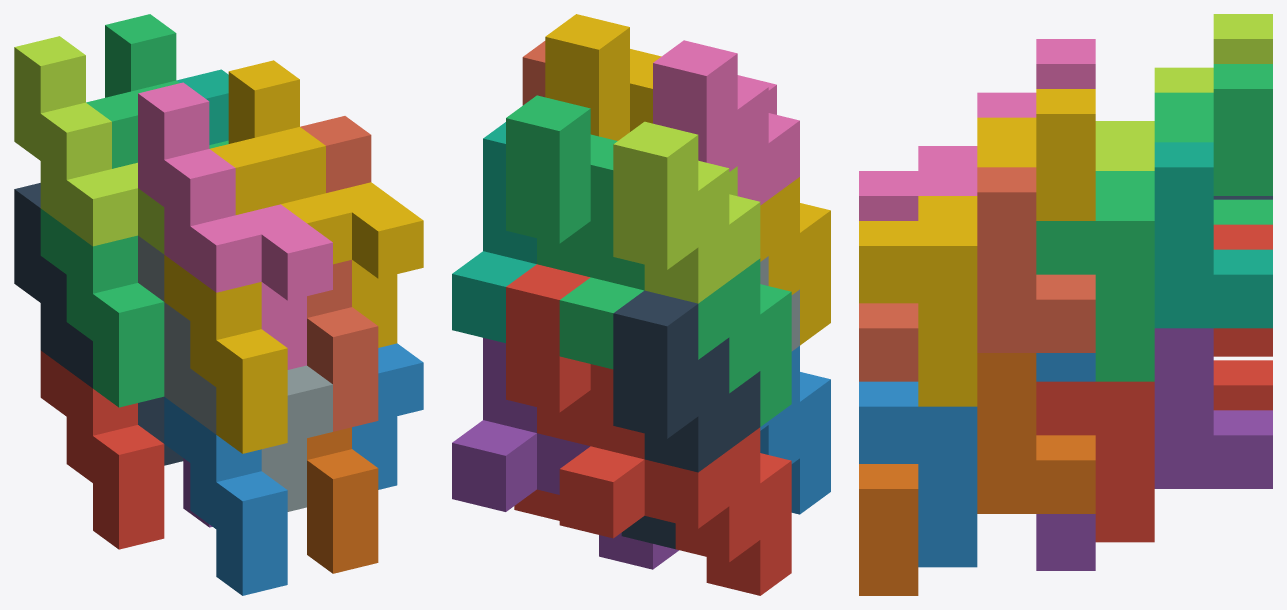
The model's file is tiling.obj.
3 views of the same model, side by side, from view 1: azimuth 30°, elevation 25°; view 2: azimuth 150°, elevation 25°; view 3: azimuth 270°, elevation 25° (orthographic). The views are drawn at different scales.
Visible parts, largest first — view 1: copy_2_domain_4, copy_2_domain_8, copy_2_domain_3, copy_1_domain_4, copy_1_domain_3, copy_1_domain_1, copy_1_domain_2, copy_1_domain_8, copy_2_domain_2, copy_1_domain_6, copy_2_domain_1, copy_2_domain_6 (+2 smaller); view 2: copy_1_domain_1, copy_2_domain_1, copy_2_domain_3, copy_1_domain_3, copy_2_domain_4, copy_2_domain_7, copy_1_domain_5, copy_2_domain_5, copy_2_domain_8, copy_1_domain_4, copy_1_domain_7, copy_1_domain_2 (+2 smaller); view 3: copy_2_domain_8, copy_2_domain_7, copy_1_domain_6, copy_1_domain_8, copy_1_domain_5, copy_2_domain_5, copy_2_domain_6, copy_1_domain_7, copy_2_domain_4, copy_2_domain_3, copy_1_domain_3, copy_1_domain_1 (+1 smaller).
Boxes of the visible parts, <box> form: copy_2_domain_4: <box>138,82,332,369</box>; copy_2_domain_8: <box>228,60,423,347</box>; copy_2_domain_3: <box>14,36,164,254</box>; copy_1_domain_4: <box>164,138,287,453</box>; copy_1_domain_3: <box>40,91,164,407</box>; copy_1_domain_1: <box>40,350,164,549</box>; copy_1_domain_2: <box>164,397,287,595</box>; copy_1_domain_8: <box>300,116,378,431</box>; copy_2_domain_2: <box>138,235,332,511</box>; copy_1_domain_6: <box>307,427,378,573</box>; copy_2_domain_1: <box>14,183,183,465</box>; copy_2_domain_6: <box>352,343,423,489</box>; copy_1_domain_1: <box>559,364,791,595</box>; copy_2_domain_1: <box>613,290,760,549</box>; copy_2_domain_3: <box>613,121,760,303</box>; copy_1_domain_3: <box>559,148,791,426</box>; copy_2_domain_4: <box>653,40,799,205</box>; copy_2_domain_7: <box>506,95,617,277</box>; copy_1_domain_5: <box>452,338,678,569</box>; copy_2_domain_5: <box>506,264,590,520</box>; copy_2_domain_8: <box>545,14,661,140</box>; copy_1_domain_4: <box>630,67,830,345</box>; copy_1_domain_7: <box>452,122,536,343</box>; copy_1_domain_2: <box>760,346,830,514</box>; copy_2_domain_8: <box>859,89,1095,406</box>; copy_2_domain_7: <box>1036,64,1272,381</box>; copy_1_domain_6: <box>859,353,1095,595</box>; copy_1_domain_8: <box>859,167,1095,381</box>; copy_1_domain_5: <box>1036,328,1272,570</box>; copy_2_domain_5: <box>1036,224,1272,542</box>; copy_2_domain_6: <box>859,353,1095,567</box>; copy_1_domain_7: <box>1154,142,1272,328</box>; copy_2_domain_4: <box>859,39,1095,220</box>; copy_2_domain_3: <box>1095,14,1272,170</box>; copy_1_domain_3: <box>1154,92,1272,224</box>; copy_1_domain_1: <box>1213,360,1272,410</box>.
Size of the model in its own units: 5 by 9 by 7.
